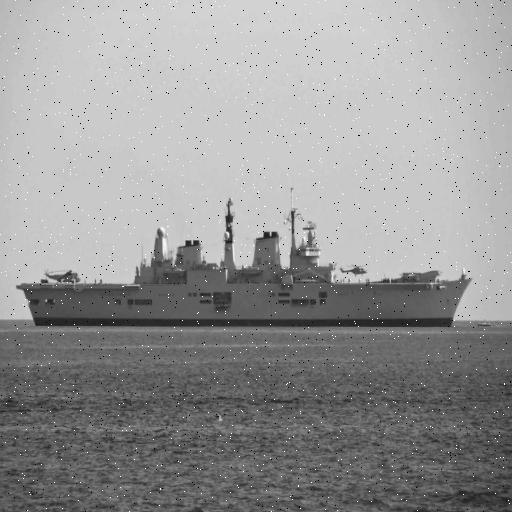Portanaves: (17, 180, 477, 330)
